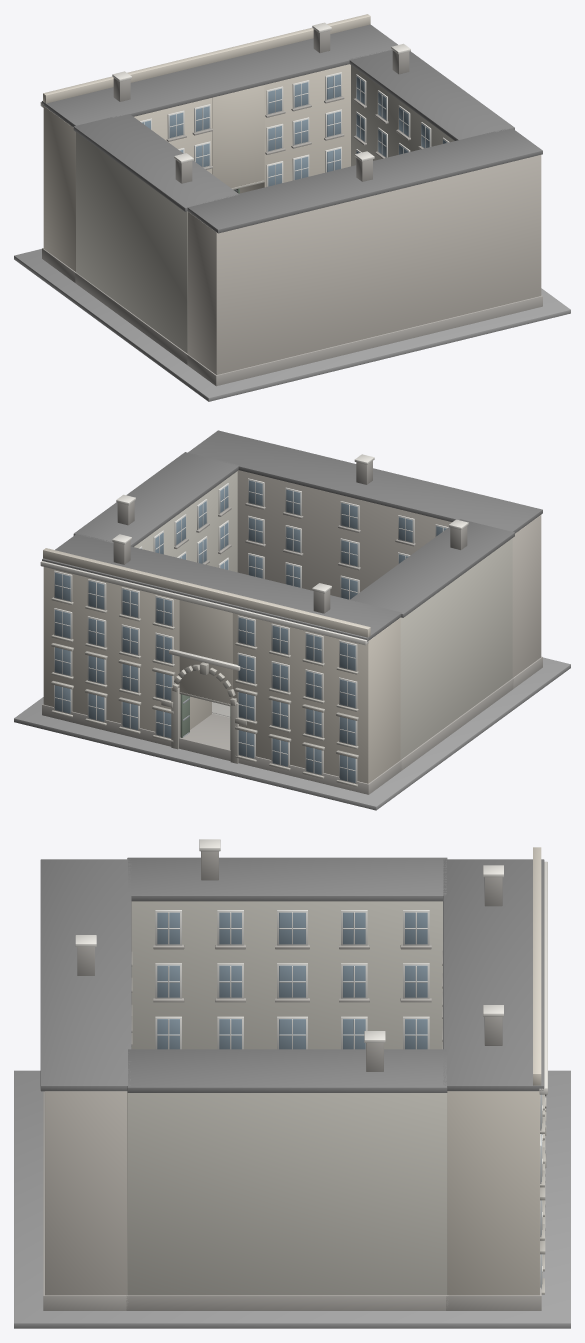
The model's file is th22_hinterhof.glb.
3 views of the same model, one above another, from view 1: azimuth 30°, elevation 25°; view 2: azimuth 150°, elevation 25°; view 3: azimuth 270°, elevation 25° (orthographic). The views are drawn at different scales.
Parts seen in each view (by area): view 1: Cube.046, Cube.044, Cube.704, Cube.701, Cube, Cube.013, Cube.702, Cube.703, Cube.014, Cube.015, Cube.050, Cube.705 (+2 smaller); view 2: Cube.046, Cube.044, Cube.013, Cube.704, Cube.014, Cube, Cube.701, Cube.702, Cube.703, Cube.047, Cube.015, Cube.705 (+5 smaller); view 3: Cube.045, Cube.044, Cube, Cube.704, Cube.701, Cube.014, Cube.046, Cube.702, Cube.703, Cube.049, Cube.705, Cube.050 (+17 smaller).
Part boxes in pixels (x1,y1,x2,y2): Cube.046: (188, 155, 541, 374); Cube.044: (76, 132, 187, 353); Cube.704: (187, 128, 542, 233); Cube.701: (42, 24, 397, 127); Cube: (14, 249, 570, 401); Cube.013: (43, 98, 211, 271); Cube.702: (73, 114, 239, 211); Cube.703: (349, 50, 514, 140); Cube.014: (240, 64, 350, 193); Cube.015: (212, 85, 264, 188); Cube.050: (186, 295, 542, 386); Cube.705: (43, 14, 370, 103); Cube.046: (237, 470, 541, 677); Cube.044: (400, 538, 512, 759); Cube.013: (232, 613, 400, 783); Cube.704: (187, 430, 542, 533); Cube.014: (43, 567, 211, 731); Cube: (14, 657, 570, 810); Cube.701: (42, 533, 401, 641); Cube.702: (349, 519, 514, 617); Cube.703: (73, 452, 238, 546); Cube.047: (42, 704, 402, 794); Cube.015: (179, 600, 232, 704); Cube.705: (43, 548, 370, 637); Cube.045: (127, 1093, 447, 1295); Cube.044: (131, 901, 442, 1049); Cube: (14, 1070, 570, 1328); Cube.704: (40, 859, 131, 1091); Cube.701: (443, 859, 544, 1091); Cube.014: (447, 1091, 539, 1295); Cube.046: (45, 1091, 127, 1295); Cube.702: (127, 857, 447, 901); Cube.703: (127, 1049, 447, 1092); Cube.049: (126, 1295, 448, 1310); Cube.705: (533, 847, 541, 1085); Cube.050: (43, 1091, 128, 1310).
Size of the model in its own units: 29 by 14.07 by 27.
